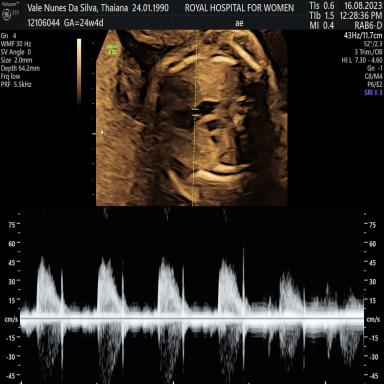Ultrasound-Waves: (23, 215, 362, 378)
